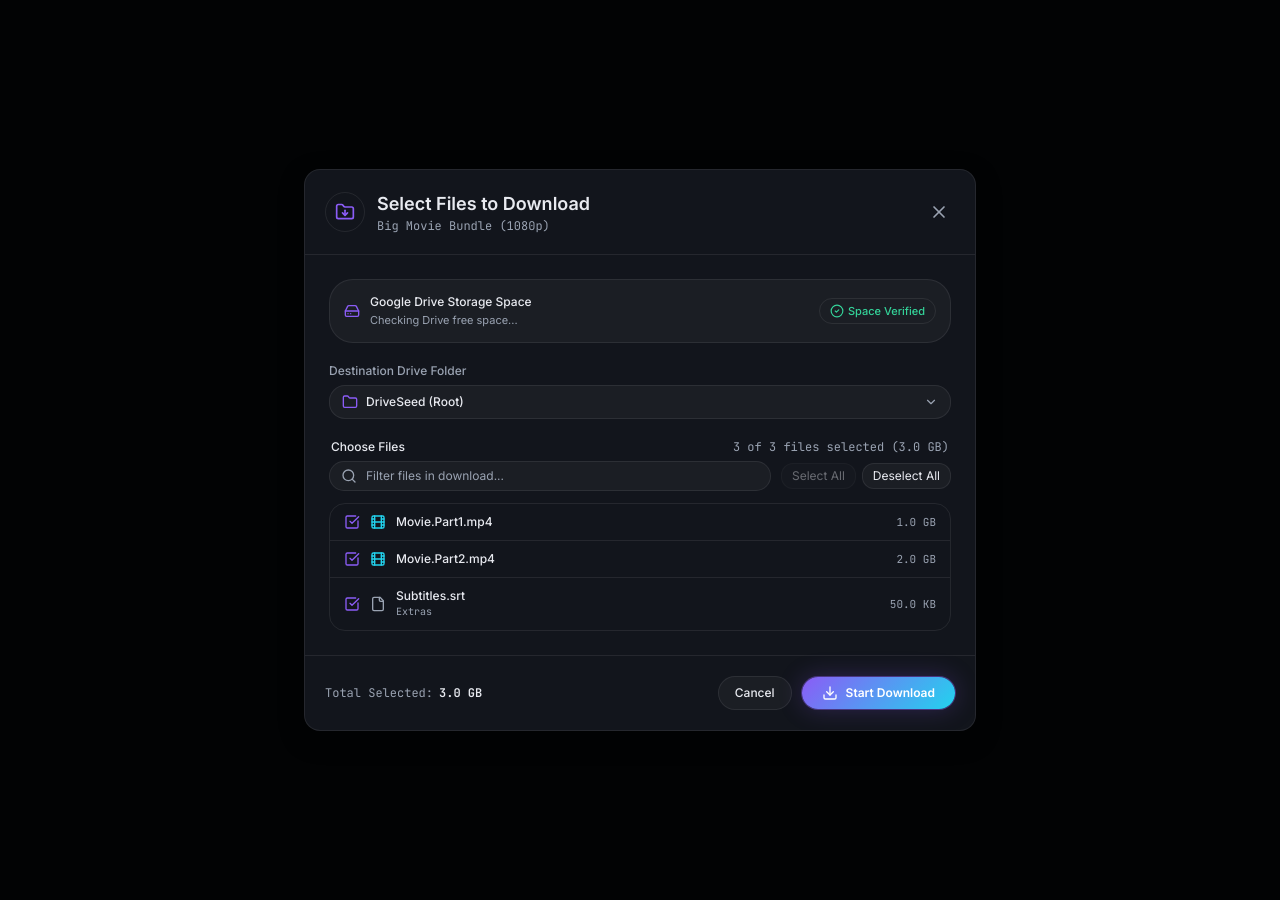
it: FileSelectionModal › deselecting a file updates the total selected size dynamically
Check: the text with test id "selected-summary" shows "3 of 3 files selected", box [733,439,949,455]
Check: the text with test id "selected-summary" shows "3.0 GB", box [899,439,942,455]
// Toggle off Movie.Part2 (2 GB)
Click the button named "Select Movie.Part2.mp4" at (352,559), box [344,551,360,567]
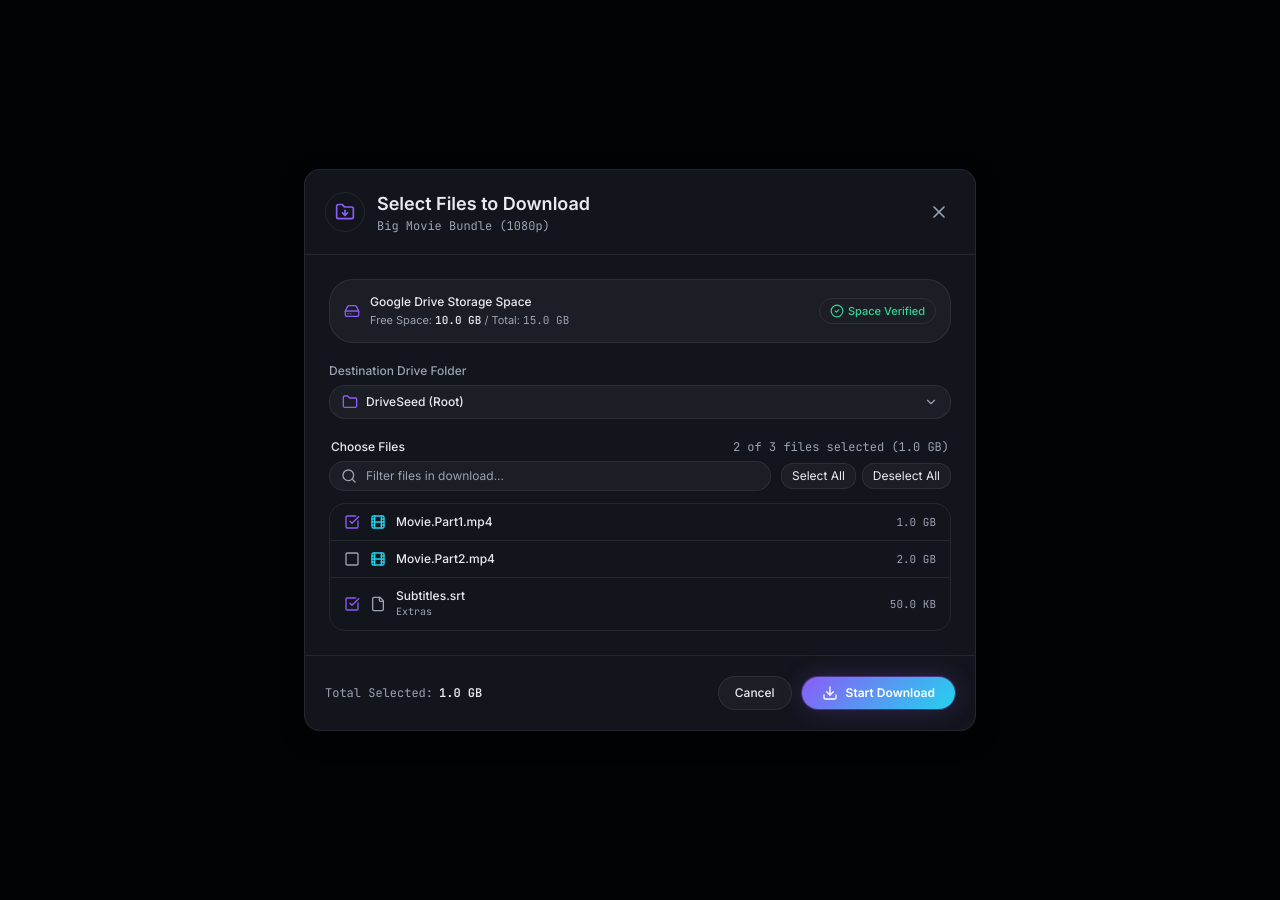
Check: the text with test id "selected-summary" shows "2 of 3 files selected", box [733,439,949,455]
Check: the text with test id "selected-summary" shows "1.0 GB", box [899,439,942,455]
// Deselect All
Click the button "Deselect All" at (906,476), box [862,463,951,489]
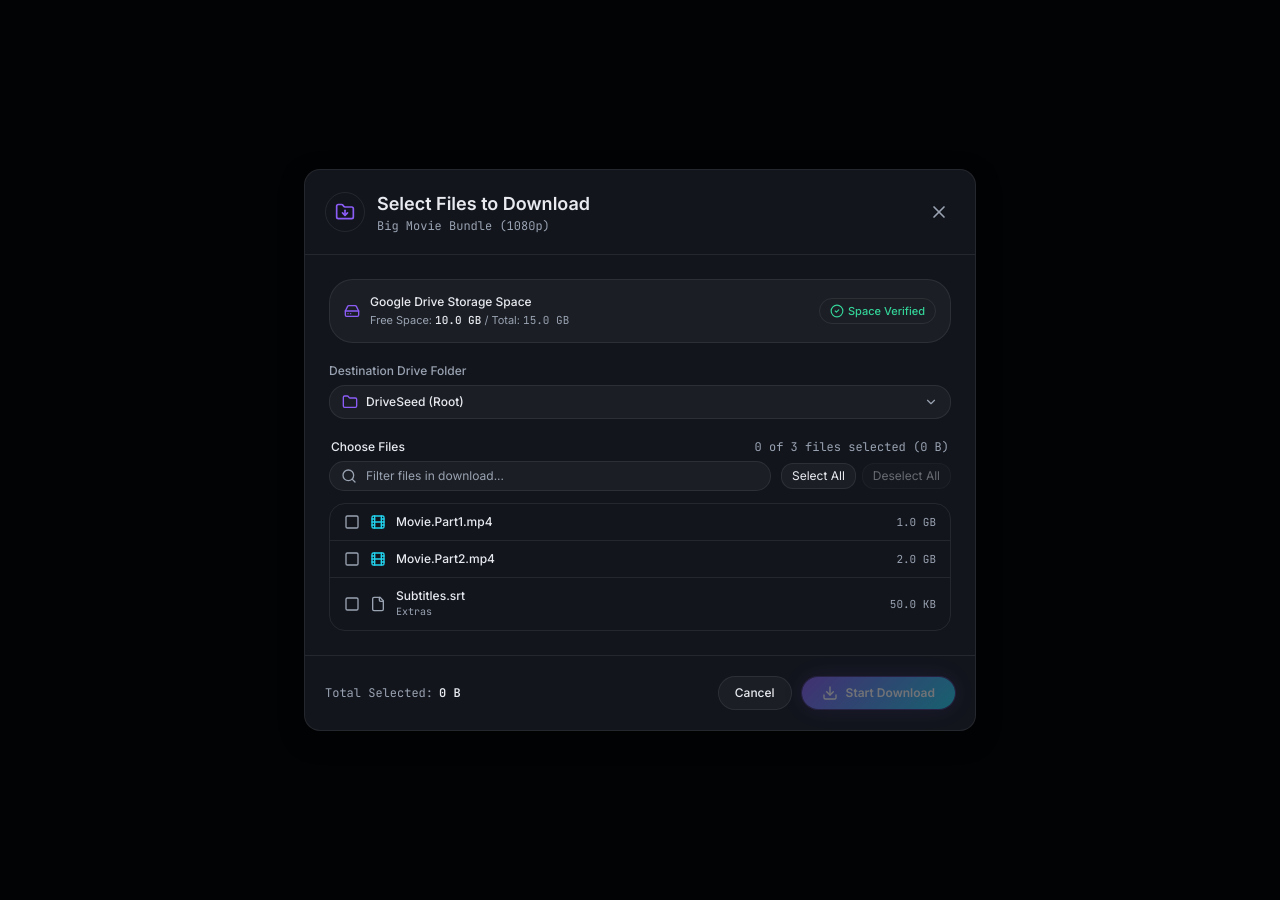
Check: the text with test id "selected-summary" shows "0 of 3 files selected", box [755,439,949,455]
Check: the button "Start Download" is disabled, box [802,677,955,709]
// Select All
Click the button "Select All" at (818,476), box [781,463,856,489]
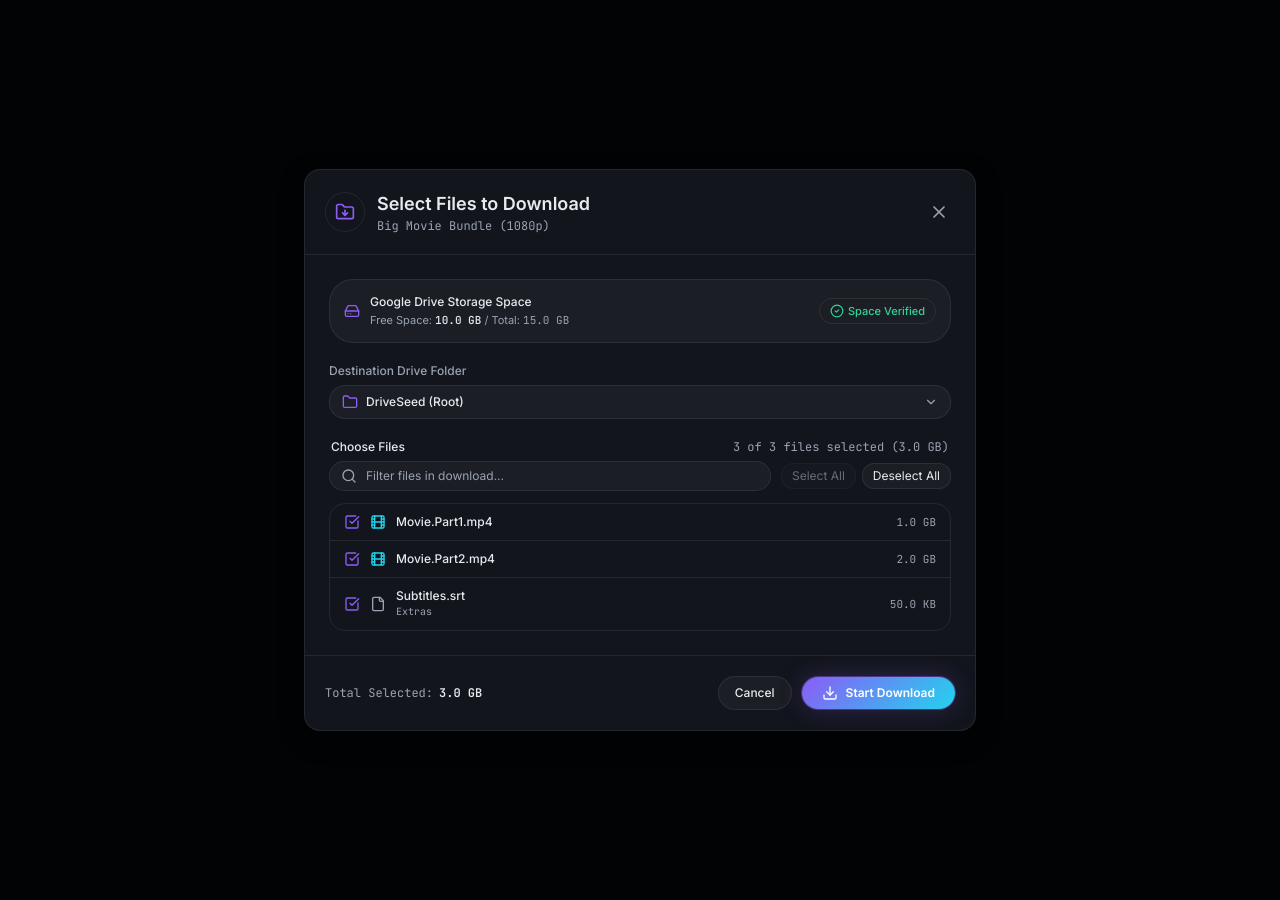
Check: the text with test id "selected-summary" shows "3 of 3 files selected", box [733,439,949,455]
